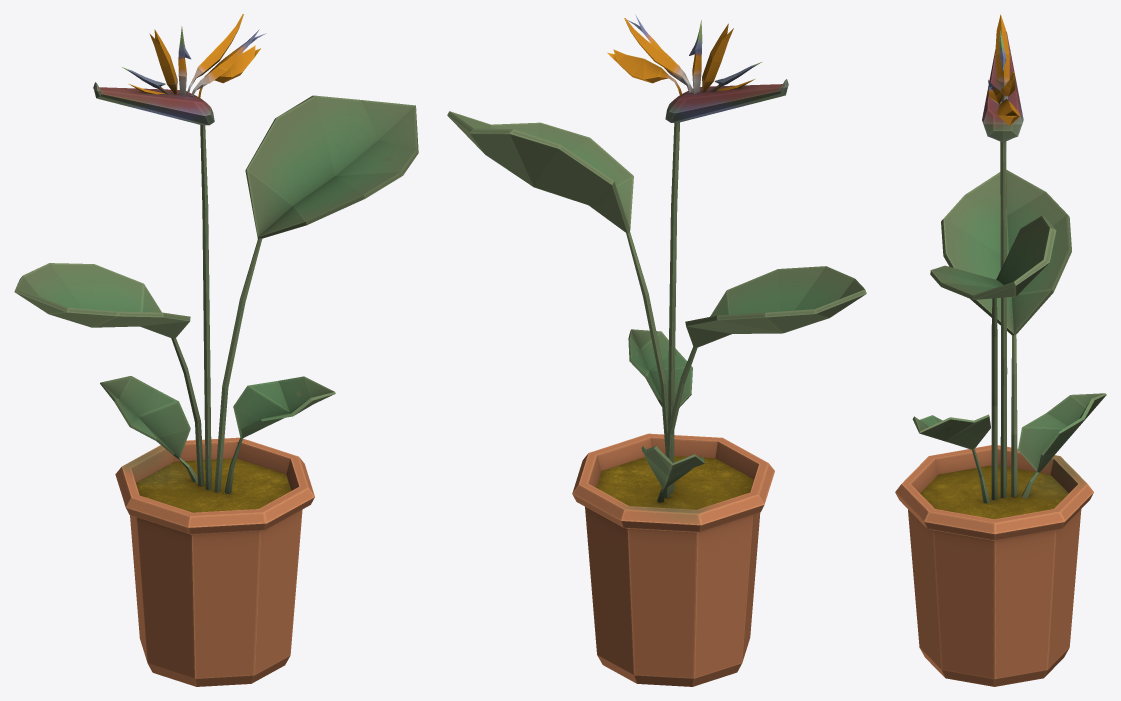
File: BirdsOfParadisePottedPlant.obj
3 renders of one model, left to right at view 1: azimuth 30°, elevation 25°; view 2: azimuth 150°, elevation 25°; view 3: azimuth 270°, elevation 25°, orthographic. The views are drawn at different scales.
Parts seen in each view (by area): view 1: BirdsOfParadisePottedPlant_mesh; view 2: BirdsOfParadisePottedPlant_mesh; view 3: BirdsOfParadisePottedPlant_mesh.
Boxes of the visible parts, box(x1,y1,x2,y2) form: BirdsOfParadisePottedPlant_mesh: box(14, 14, 418, 686); BirdsOfParadisePottedPlant_mesh: box(447, 14, 866, 686); BirdsOfParadisePottedPlant_mesh: box(895, 14, 1106, 686).
Bounding box in the file's own units: 3.58 × 5.37 × 1.67.
Materials: 1 (1 with a texture image).
